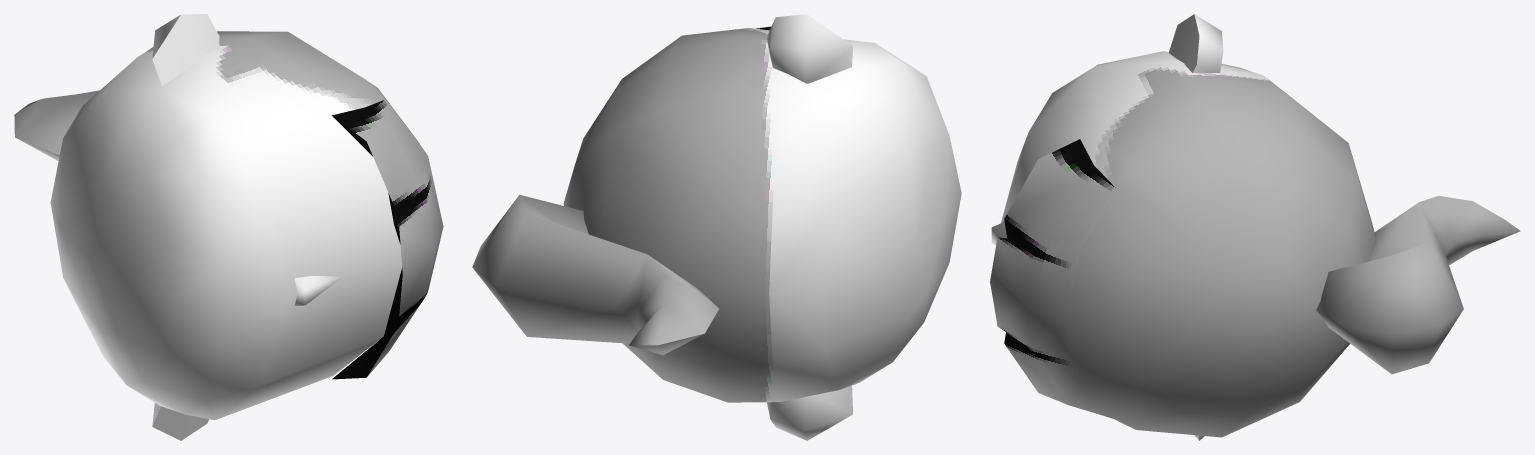
File: girl04a.dae
The picture shows the model from 3 angles, left to right: view 1: azimuth 30°, elevation 25°; view 2: azimuth 150°, elevation 25°; view 3: azimuth 270°, elevation 25°; orthographic projection.
Visible parts, largest first — view 1: girl04a; view 2: girl04a; view 3: girl04a.
Part boxes in pixels (left/top/right/bottom): girl04a: left=14, top=14, right=443, bottom=440; girl04a: left=472, top=14, right=961, bottom=440; girl04a: left=990, top=14, right=1520, bottom=440.
Bounding box in the file's own units: 21.34 × 26.71 × 30.49.
3 materials, 1 textured.
